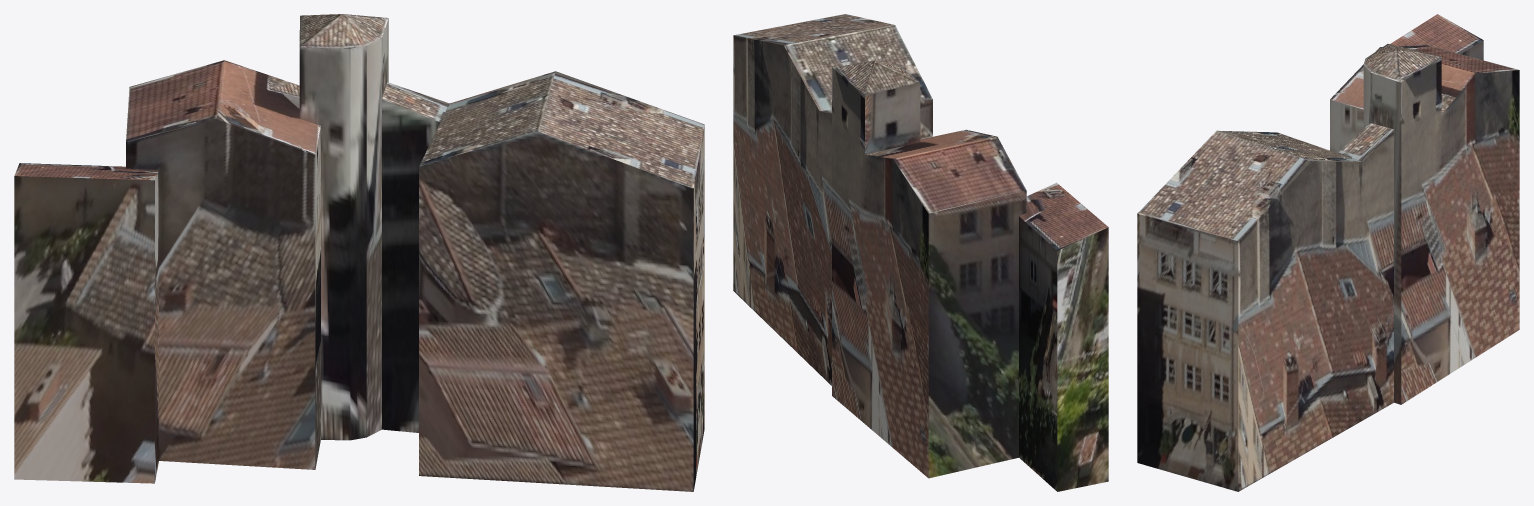
3 views of the same model, side by side, from view 1: azimuth 30°, elevation 25°; view 2: azimuth 150°, elevation 25°; view 3: azimuth 270°, elevation 25° (orthographic). The views are drawn at different scales.
Visible parts, largest first — view 1: Z_UP; view 2: Z_UP; view 3: Z_UP.
Part boxes in pixels (x1,y1,x2,y2): Z_UP: [14, 14, 704, 491]; Z_UP: [733, 14, 1108, 491]; Z_UP: [1137, 14, 1519, 491].
Size of the model in its own units: 33.59 by 23.1 by 23.77.
2 materials, 1 textured.
